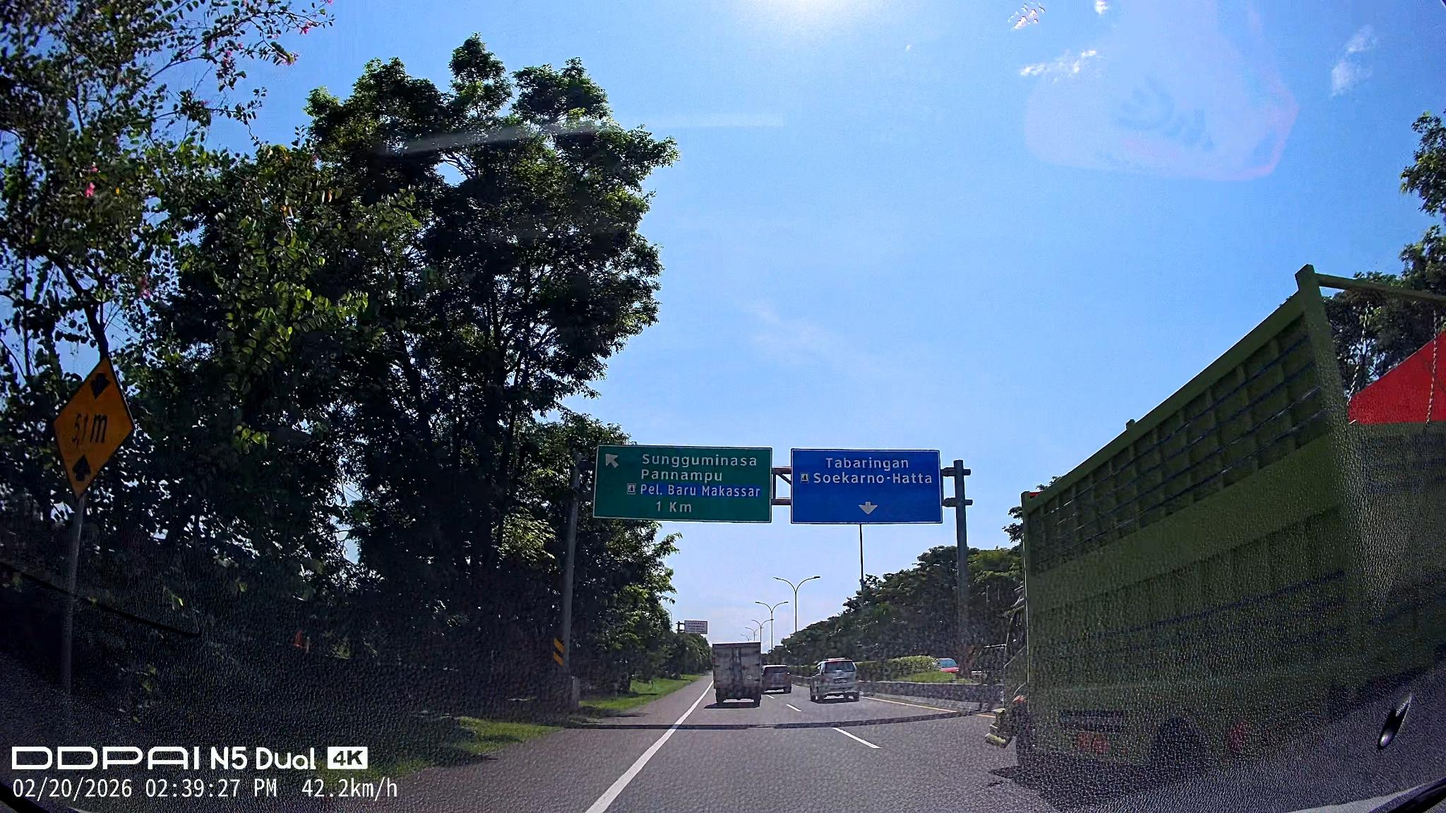rambu_teks: (591, 445, 773, 523), (790, 447, 943, 525)
